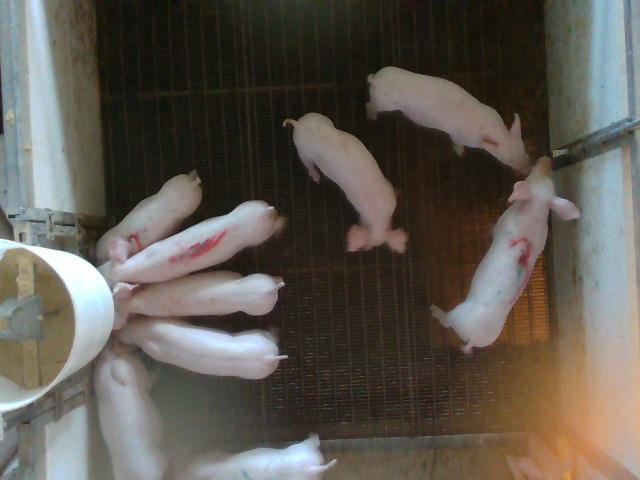pig-1: (109, 201, 285, 284)
pig-3: (431, 156, 580, 352)
